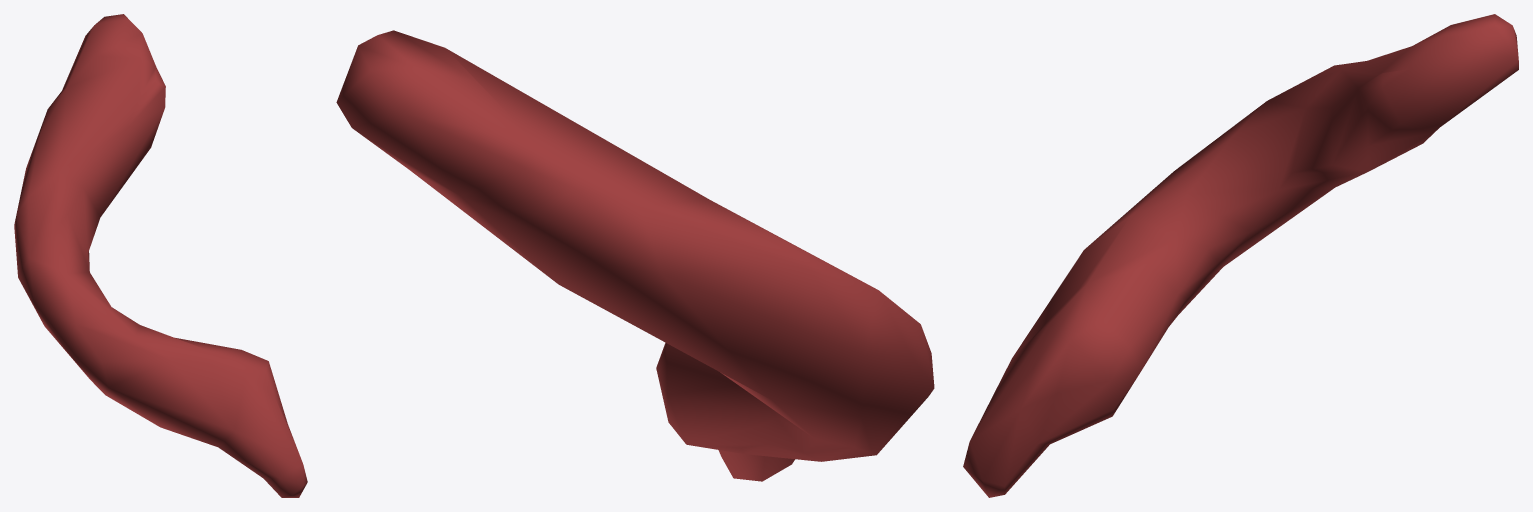
File: external-anal-sphincter-r.glb
The picture shows the model from 3 angles, left to right: view 1: azimuth 30°, elevation 25°; view 2: azimuth 150°, elevation 25°; view 3: azimuth 270°, elevation 25°; orthographic projection. The views are drawn at different scales.
Parts seen in each view (by area): view 1: External anal sphincter.r; view 2: External anal sphincter.r; view 3: External anal sphincter.r.
Part boxes in pixels (left/top/right/bottom): External anal sphincter.r: left=14, top=14, right=307, bottom=497; External anal sphincter.r: left=336, top=30, right=934, bottom=481; External anal sphincter.r: left=963, top=14, right=1518, bottom=497.
Bounding box in the file's own units: 0.012 × 0.0216 × 0.0228.
